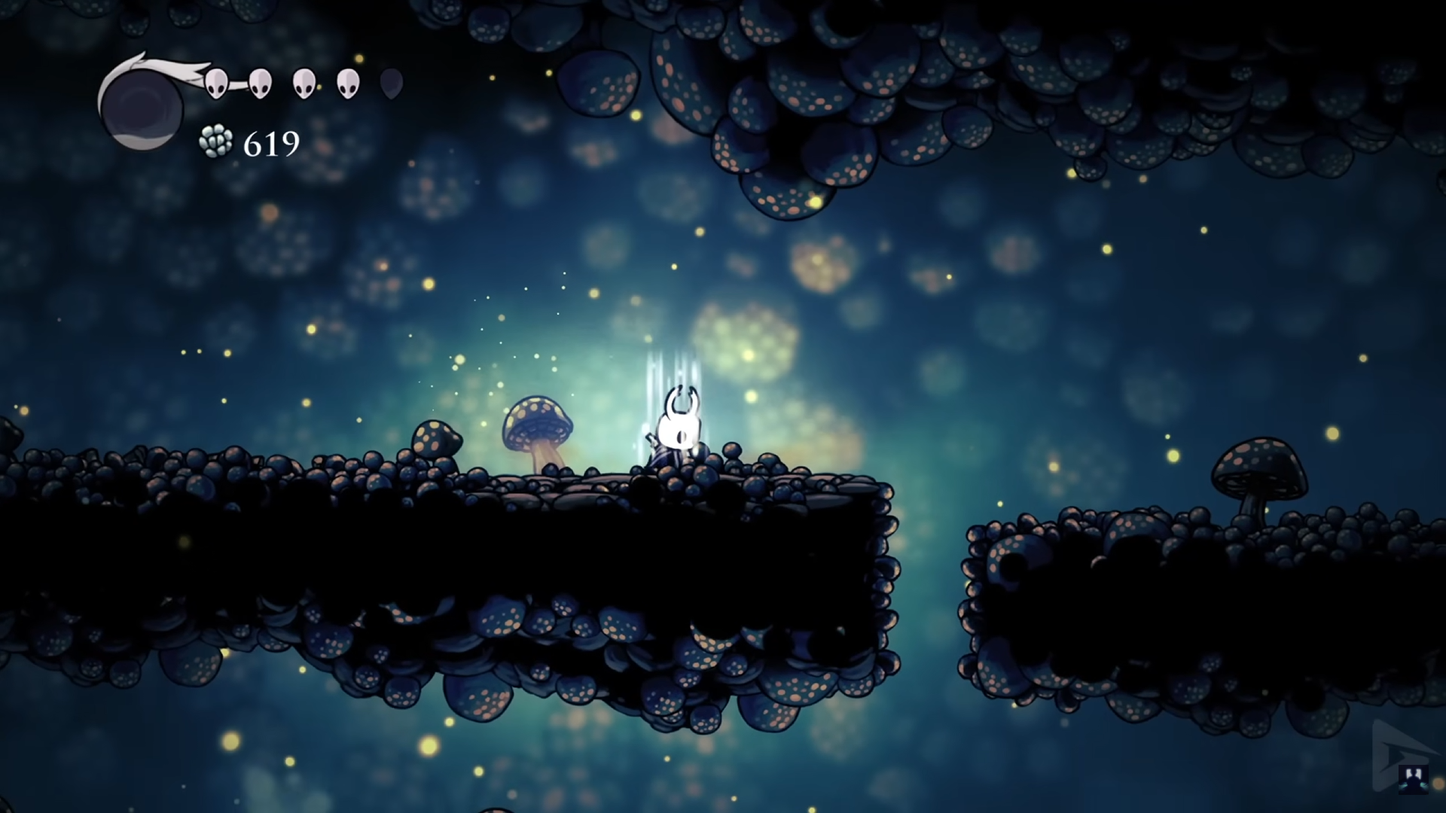HK: (645, 381, 709, 472)
